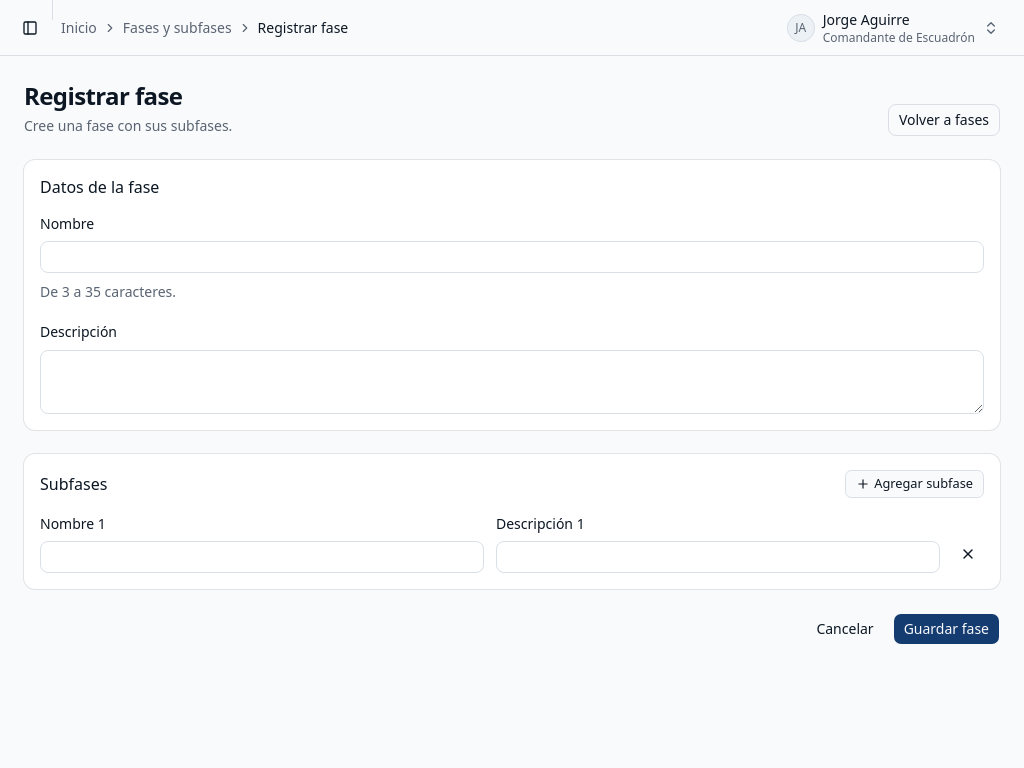
Test: Formulario de fase › CA-FAS-02 registra una fase con al menos una subfase y abre el detalle
Type "Operaciones Nocturnas" into the field labelled "Nombre" at (512, 257), box [40,241,984,273]
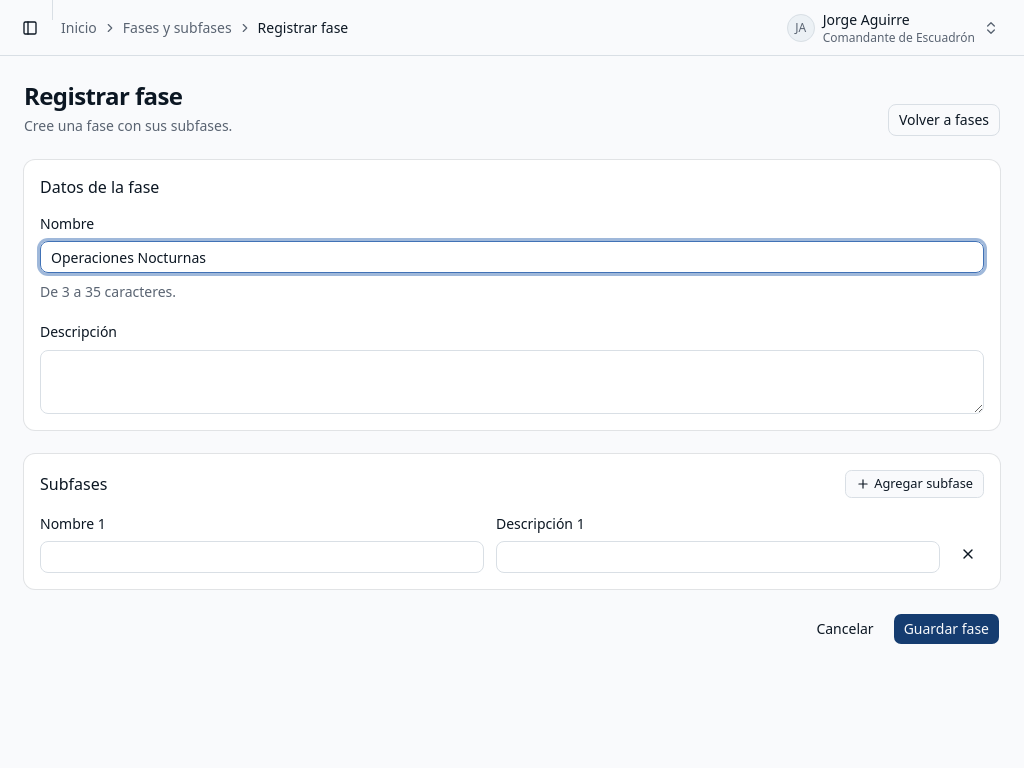
Type "Vuelo con visores nocturnos" into the text box labelled "Descripción" at (512, 382), box [40,350,984,414]
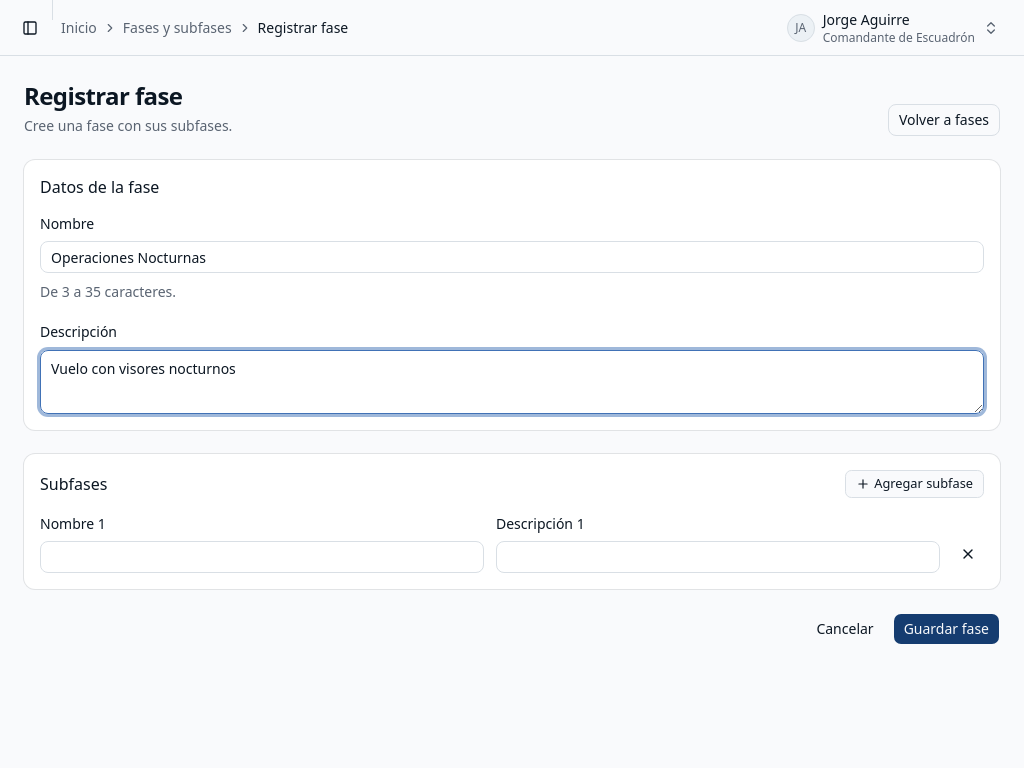
Type "Familiarización NVG" into the field labelled "Nombre 1" at (262, 557), box [40,541,484,573]
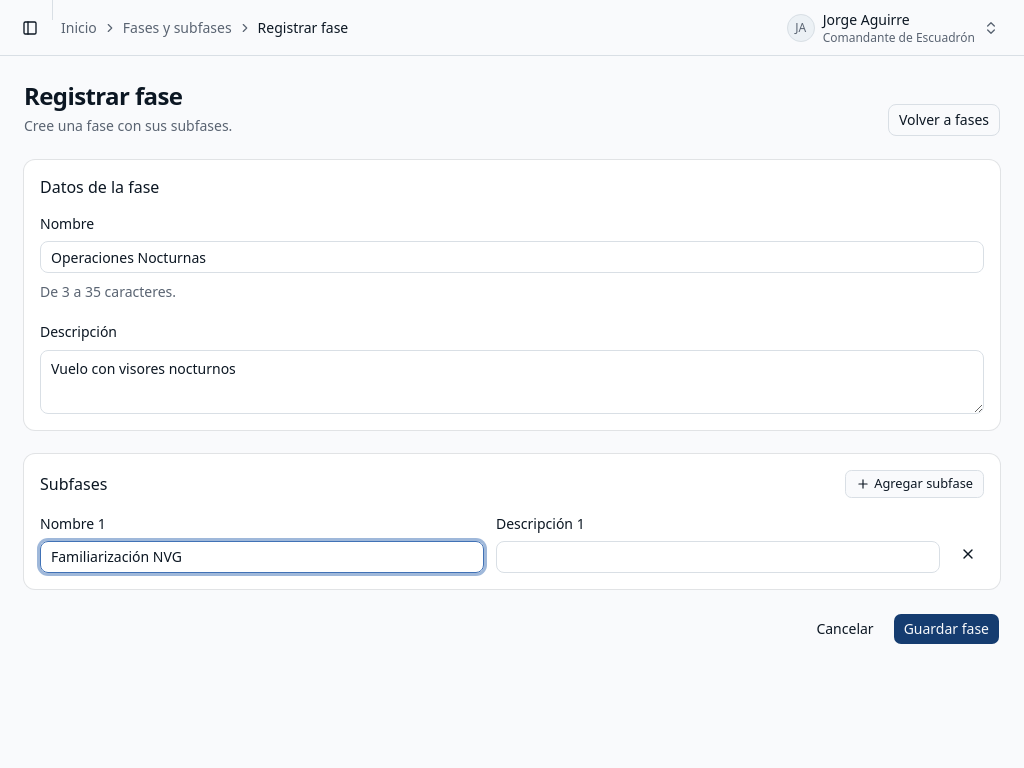
Click the button "Guardar fase" at (946, 629), box [893,613,1000,645]
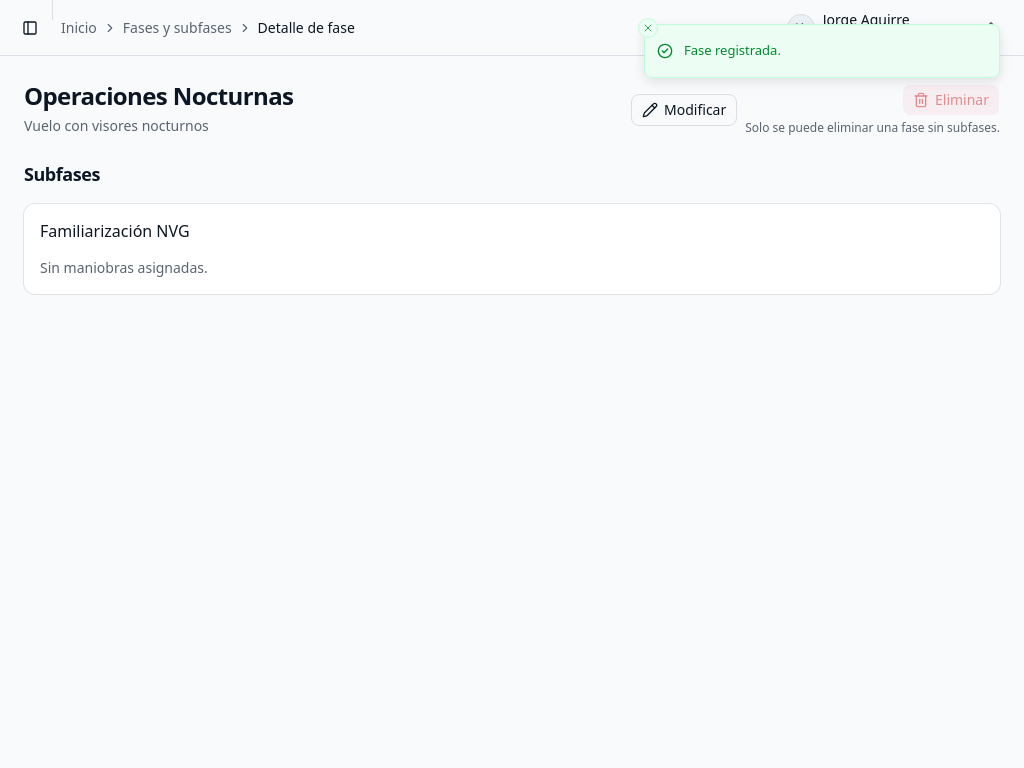
Now the text "Fase registrada." is shown, box [684,41,781,60]
Now the heading "Operaciones Nocturnas" is shown, box [24,80,293,112]
Now the element "Familiarización NVG" is shown, box [24,204,1000,294]
